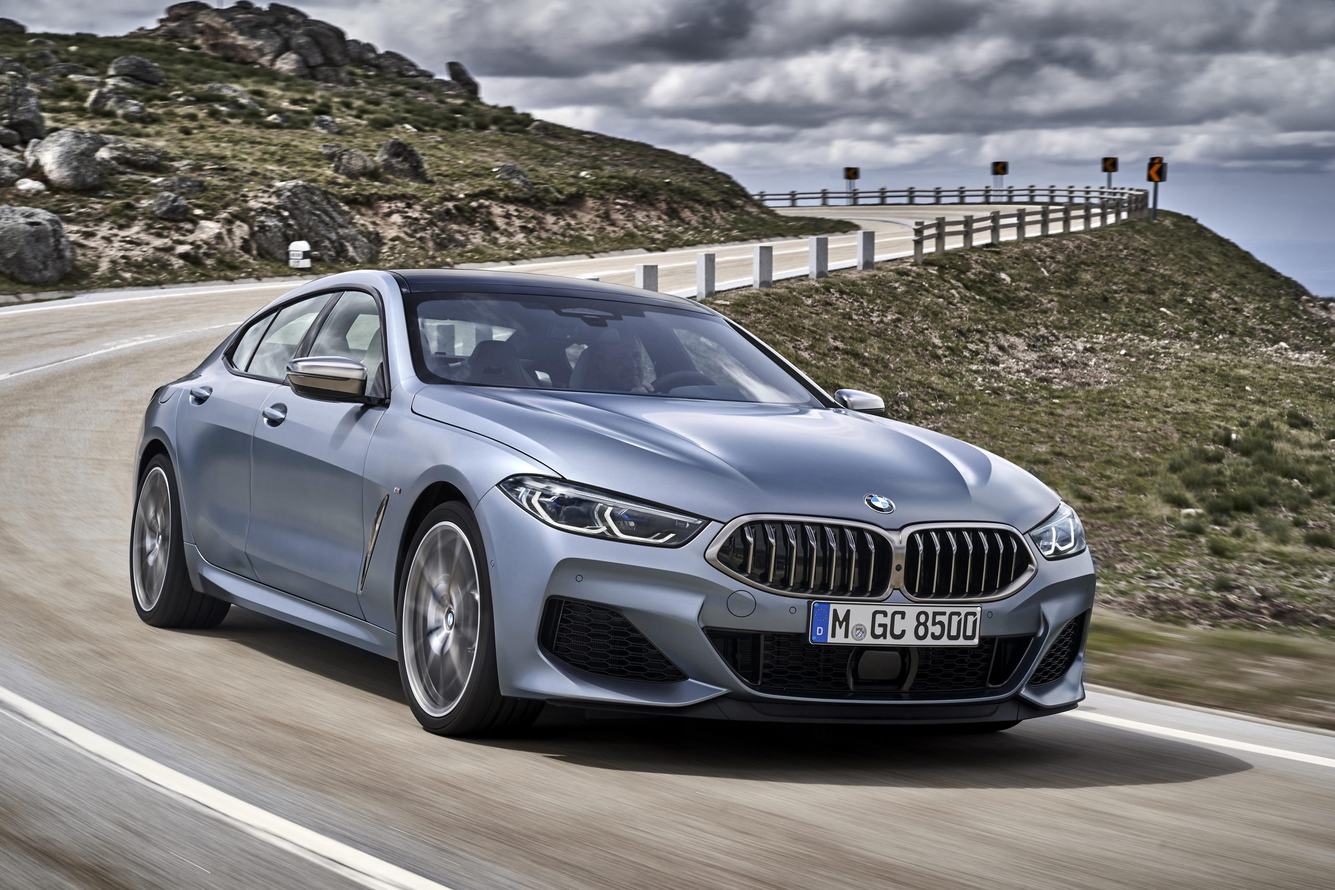other: (131, 258, 1096, 762)
